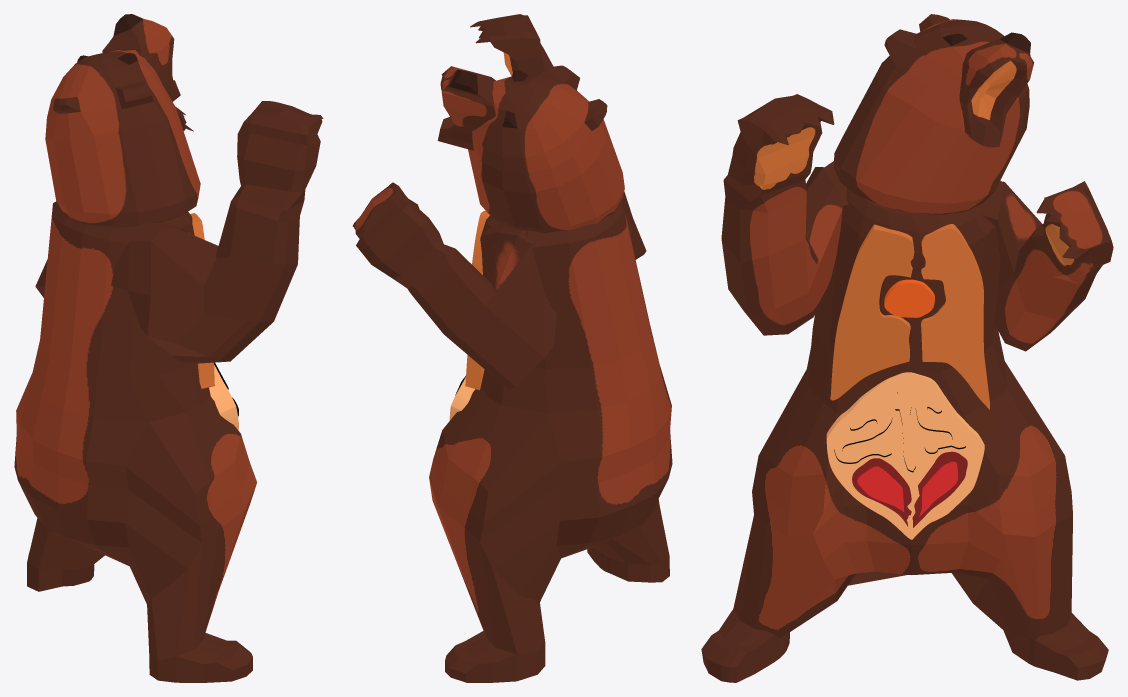
Rendered from beer_model.glb.
3 renders of one model, left to right at view 1: azimuth 30°, elevation 25°; view 2: azimuth 150°, elevation 25°; view 3: azimuth 270°, elevation 25°, orthographic. The views are drawn at different scales.
Parts seen in each view (by area): view 1: Cylinder.001, Cube.002, head, Cube.003, Curve.017, Curve.007; view 2: Cylinder.001, Cube.001, head, Cube.003, Cube.002, Curve.007; view 3: Cylinder.001, head, Cube.002, Curve.007, Cube.001, Curve.017, Cube.003, Curve.026, Curve.024, Curve.012.
Boxes of the visible parts, x1,y1,x2,y2 form: Cylinder.001: [14, 201, 256, 682]; Cube.002: [111, 101, 323, 364]; head: [45, 50, 200, 227]; Cube.003: [102, 14, 180, 101]; Curve.017: [209, 365, 238, 430]; Curve.007: [190, 213, 214, 388]; Cylinder.001: [429, 200, 672, 682]; Cube.001: [352, 182, 556, 389]; head: [468, 65, 624, 232]; Cube.003: [437, 66, 495, 150]; Cube.002: [470, 14, 646, 259]; Curve.007: [465, 210, 489, 390]; Cylinder.001: [701, 180, 1108, 682]; head: [834, 14, 1029, 214]; Cube.002: [721, 94, 848, 335]; Curve.007: [830, 224, 989, 409]; Cube.001: [981, 181, 1113, 351]; Curve.017: [826, 372, 984, 539]; Cube.003: [959, 32, 1033, 147]; Curve.026: [857, 461, 957, 516]; Curve.024: [852, 451, 967, 527]; Curve.012: [884, 279, 934, 317].
Size of the model in its own units: 5.12 by 11.68 by 6.68.
Materials: 11 (5 with a texture image).
